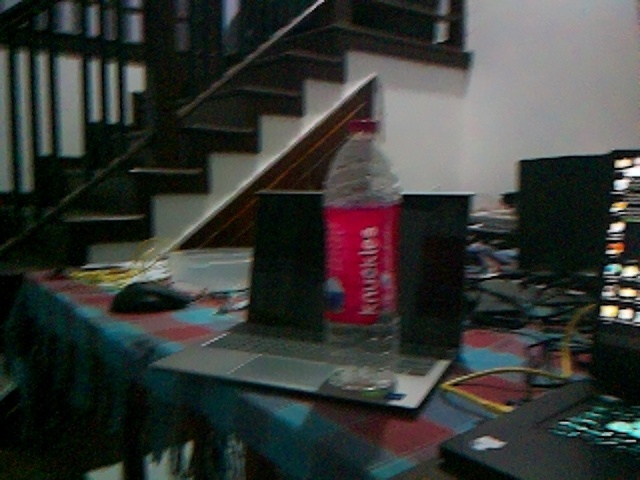bottle: (319, 117, 405, 392)
